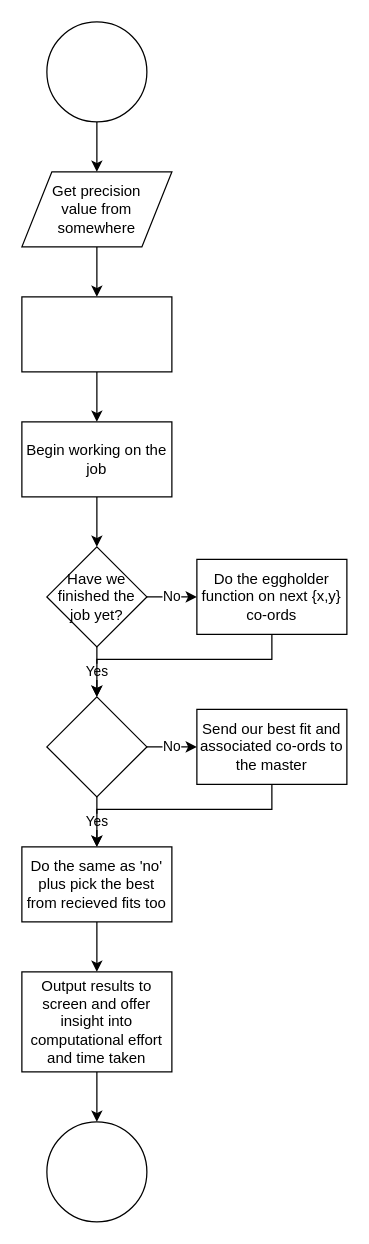
Some shapes in this 369 by 1244 pixel diagram are drawn without their labels. Here are the shapes that lost their labels. From the top down, the centre of each, then its label:
At point (96, 71): "Start".
At point (96, 334): "Calculate the job area for this specific node".
At point (96, 746): "Are we the master node?".
At point (96, 1171): "Finished".
